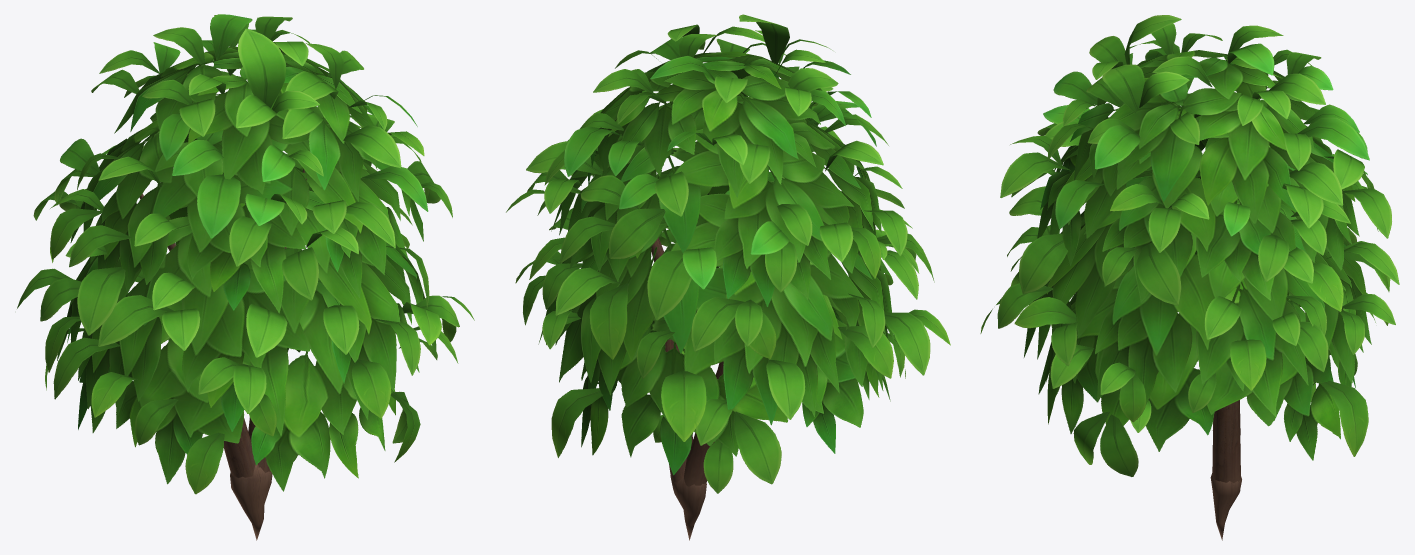
File: SE_Lilac_01c.fbx
3 views of the same model, side by side, from view 1: azimuth 30°, elevation 25°; view 2: azimuth 150°, elevation 25°; view 3: azimuth 270°, elevation 25° (orthographic). The views are drawn at different scales.
Visible parts, largest first — view 1: SE_Lilac_01c; view 2: SE_Lilac_01c; view 3: SE_Lilac_01c.
Boxes of the visible parts, x1,y1,x2,y2 form: SE_Lilac_01c: (17,14,474,540); SE_Lilac_01c: (506,14,950,540); SE_Lilac_01c: (980,15,1399,540).
Size of the model in its own units: 3.39 by 4.44 by 3.33.
